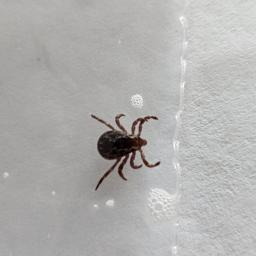Dermacentor variabilis: (89, 112, 162, 191)
